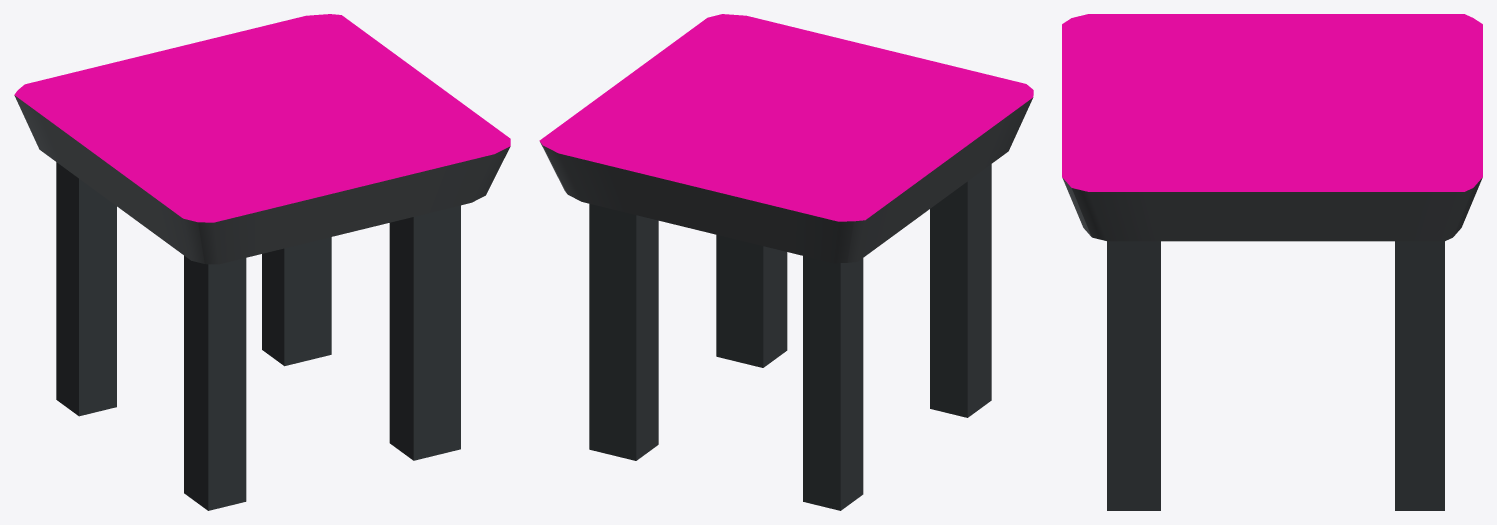
Rendered from side_table.fbx.
3 renders of one model, left to right at view 1: azimuth 30°, elevation 25°; view 2: azimuth 150°, elevation 25°; view 3: azimuth 270°, elevation 25°, orthographic. The views are drawn at different scales.
Parts seen in each view (by area): view 1: pCube6; view 2: pCube6; view 3: pCube6.
Part boxes in pixels (bbox=[...]): pCube6: bbox=[14, 14, 510, 510]; pCube6: bbox=[539, 14, 1033, 510]; pCube6: bbox=[1062, 14, 1482, 510].
Size of the model in its own units: 1.49 by 1.33 by 1.49.
